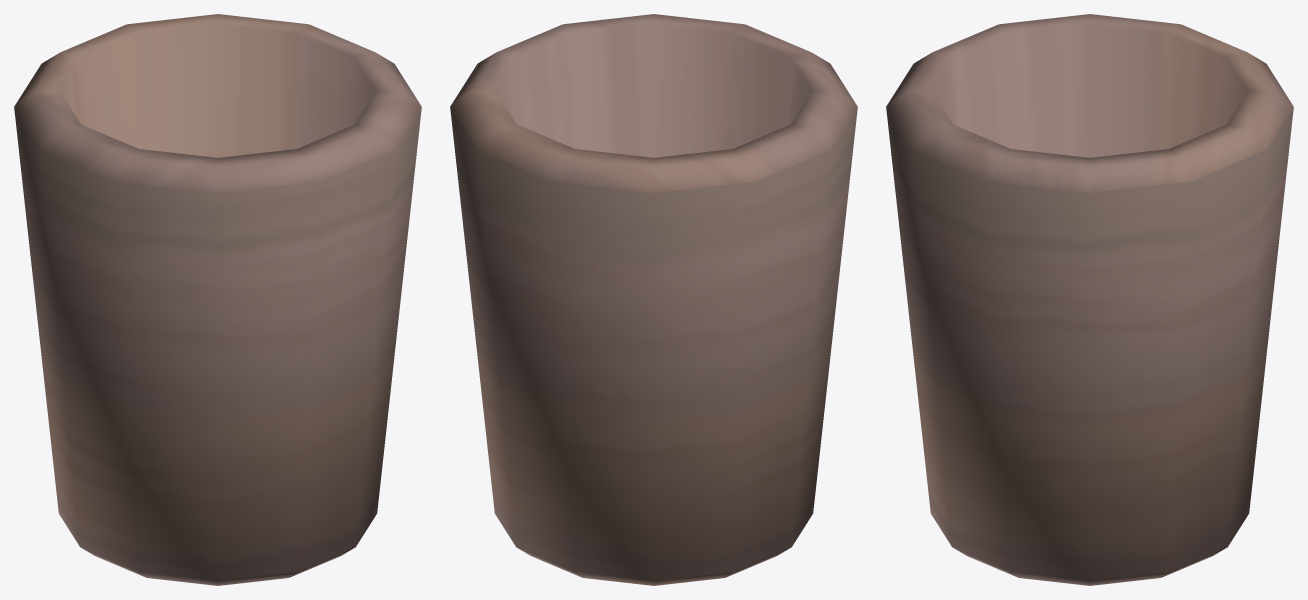
The model's file is Florist_Vase_Water.fbx.
3 views of the same model, side by side, from view 1: azimuth 30°, elevation 25°; view 2: azimuth 150°, elevation 25°; view 3: azimuth 270°, elevation 25° (orthographic).
Parts seen in each view (by area): view 1: Vase_02; view 2: Vase_02; view 3: Vase_02.
Boxes of the visible parts, x1,y1,x2,y2 form: Vase_02: [14, 14, 421, 585]; Vase_02: [450, 14, 857, 585]; Vase_02: [886, 14, 1293, 585].
Bounding box in the file's own units: 36.14 × 42.5 × 36.14.
